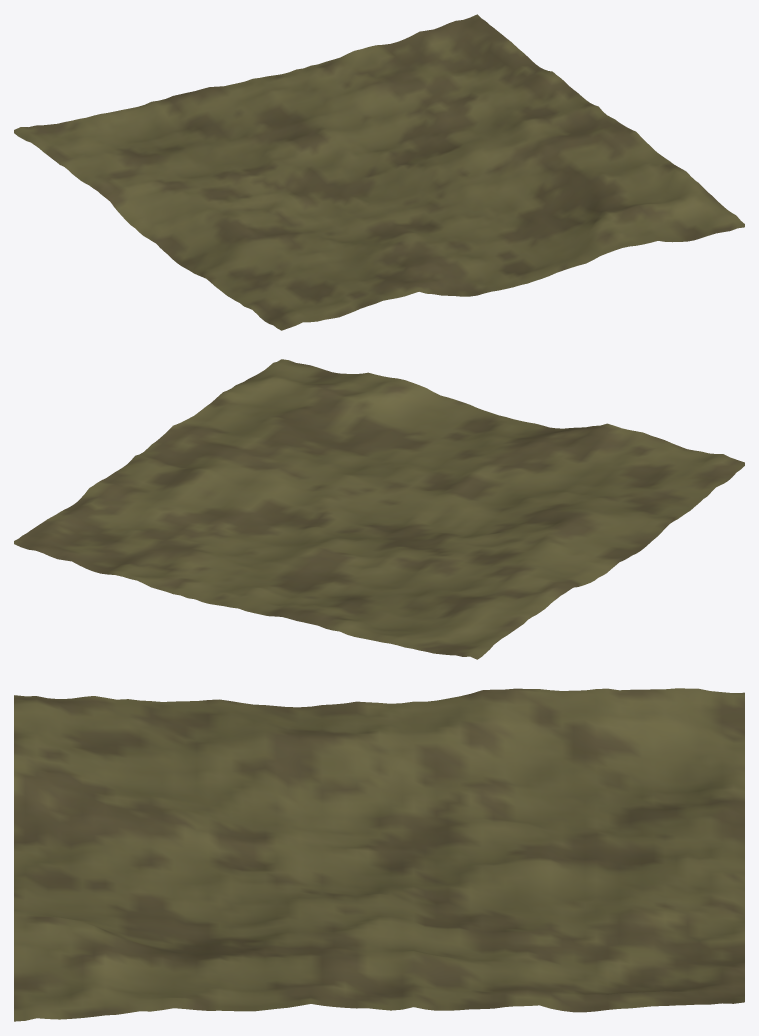
The model's file is land_f_01_10.glb.
3 views of the same model, one above another, from view 1: azimuth 30°, elevation 25°; view 2: azimuth 150°, elevation 25°; view 3: azimuth 270°, elevation 25° (orthographic). The views are drawn at different scales.
Parts seen in each view (by area): view 1: land_f_01_10; view 2: land_f_01_10; view 3: land_f_01_10.
Part boxes in pixels (bbox=[...]): land_f_01_10: bbox=[14, 14, 744, 330]; land_f_01_10: bbox=[14, 359, 744, 659]; land_f_01_10: bbox=[14, 688, 744, 1021].
Bounding box in the file's own units: 3840 × 203 × 3840.
